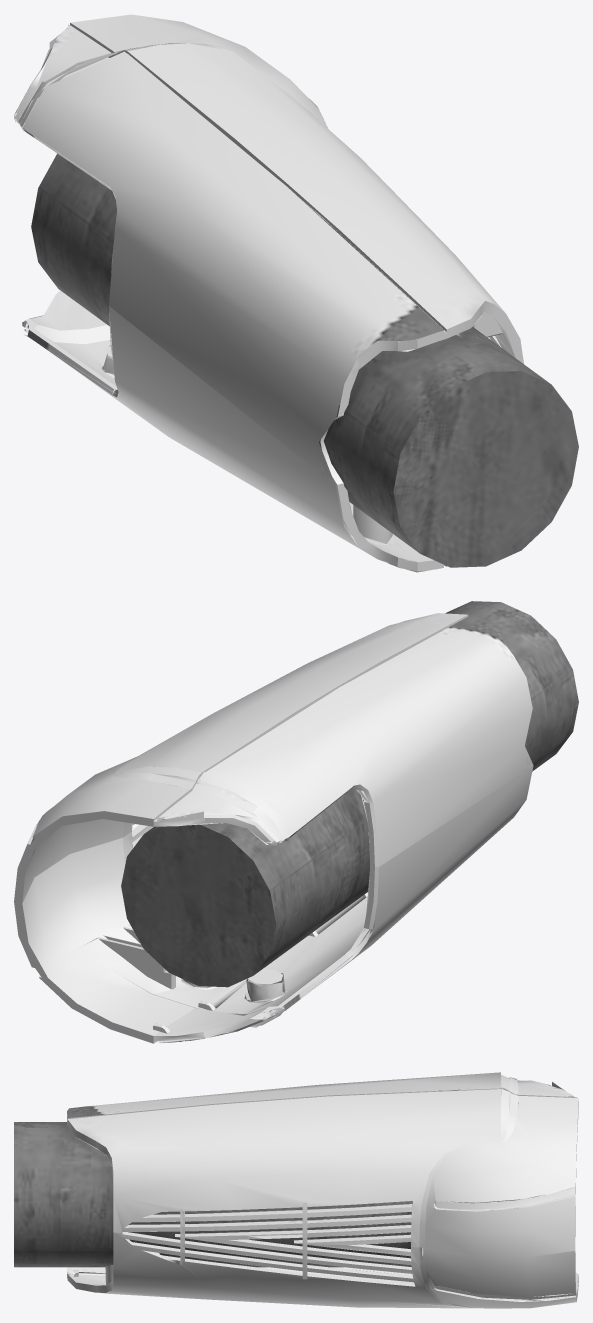
File: icub_r_shank.dae
The picture shows the model from 3 angles, top to bottom: view 1: azimuth 30°, elevation 25°; view 2: azimuth 150°, elevation 25°; view 3: azimuth 270°, elevation 25°; orthographic projection. The views are drawn at different scales.
Visible parts, largest first — view 1: l_shank_cyl_mesh; view 2: l_shank_cyl_mesh; view 3: l_shank_cyl_mesh.
Part boxes in pixels (x1=…): l_shank_cyl_mesh: x1=14, y1=14, x2=578, y2=572; l_shank_cyl_mesh: x1=14, y1=601, x2=578, y2=1043; l_shank_cyl_mesh: x1=14, y1=1072, x2=578, y2=1308.
Bounding box in the file's own units: 0.1035 × 0.2446 × 0.097.
Materials: 1 (1 with a texture image).
